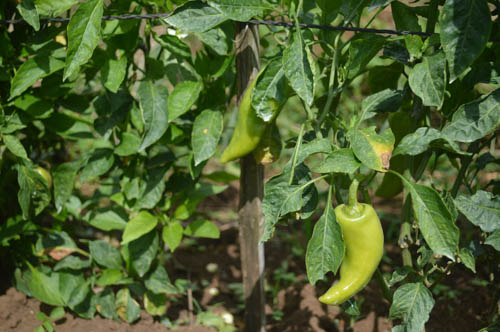ChiliPepper: (322, 207, 389, 310), (218, 87, 272, 173)
